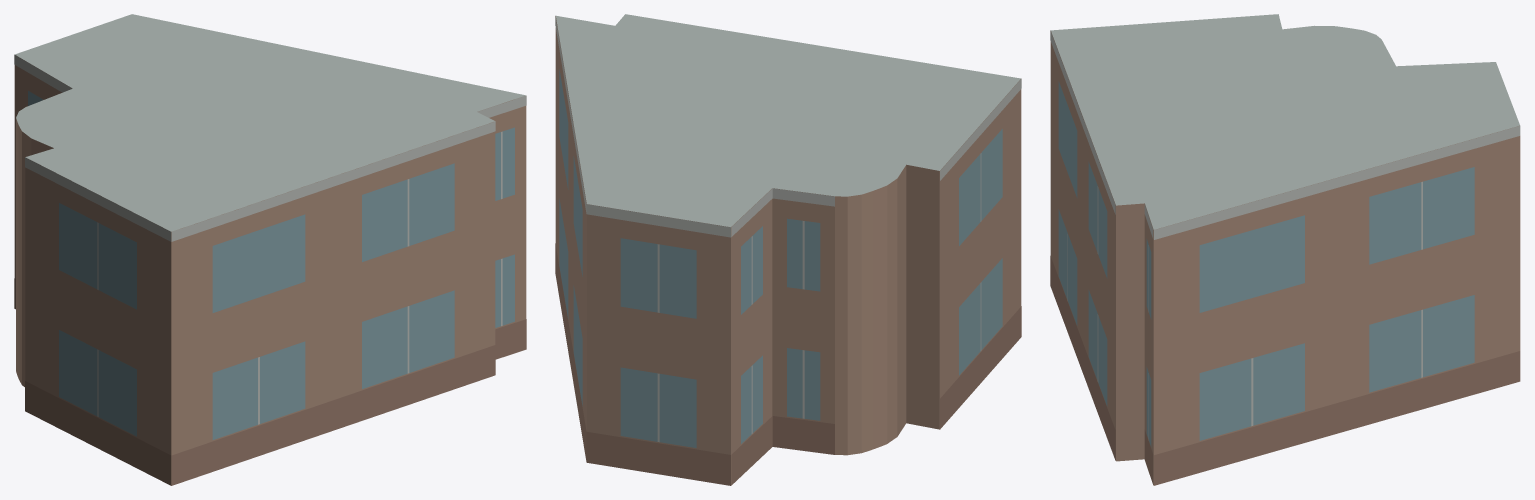
File: survey-upis-32978978.glb
The picture shows the model from 3 angles, left to right: view 1: azimuth 30°, elevation 25°; view 2: azimuth 150°, elevation 25°; view 3: azimuth 270°, elevation 25°; orthographic projection.
Parts seen in each view (by area): view 1: survey-upis-32978978.tmp; view 2: survey-upis-32978978.tmp; view 3: survey-upis-32978978.tmp.
Boxes of the visible parts, x1,y1,x2,y2 form: survey-upis-32978978.tmp: (14,14,526,485); survey-upis-32978978.tmp: (555,14,1021,485); survey-upis-32978978.tmp: (1050,14,1520,485).
Bounding box in the file's own units: 11.05 × 6.1 × 10.16.
